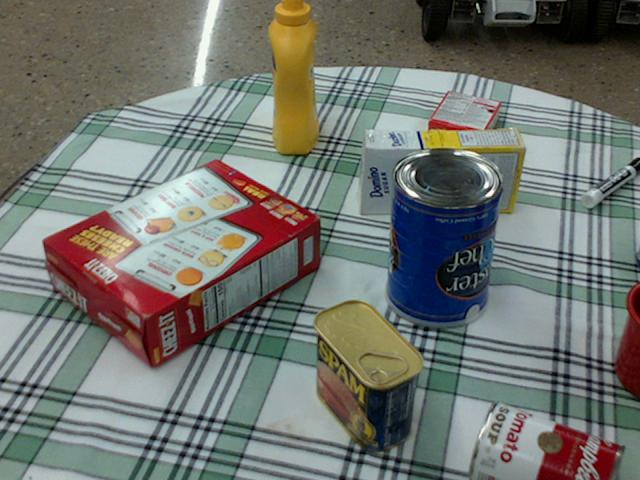cracker_box: (43, 161, 317, 366)
gelatin_box: (427, 91, 500, 150)
large_marker: (581, 157, 639, 206)
master_chef_can: (385, 146, 506, 326)
mug: (614, 281, 639, 398)
mustard_bottle: (267, 0, 317, 153)
potted_meat_can: (313, 299, 423, 450)
sugar_box: (358, 128, 525, 215)
tomato_soup_can: (469, 402, 625, 479)
tuna_fish_can: (637, 249, 639, 267)
